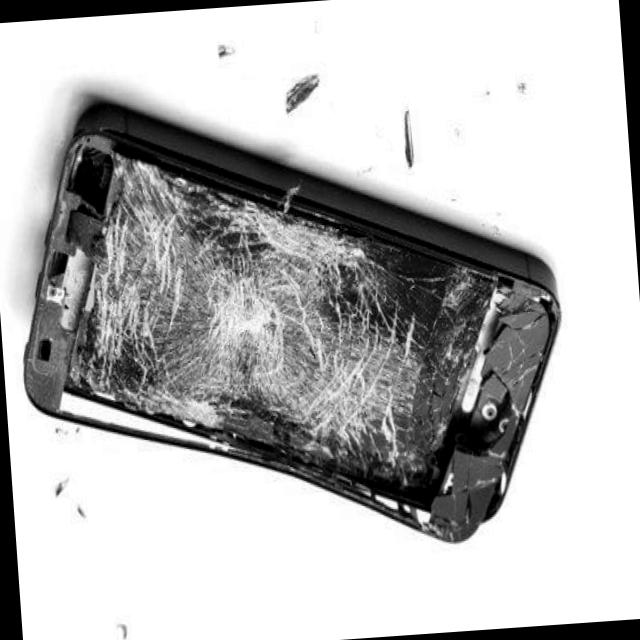Crack: (11, 76, 576, 560)
